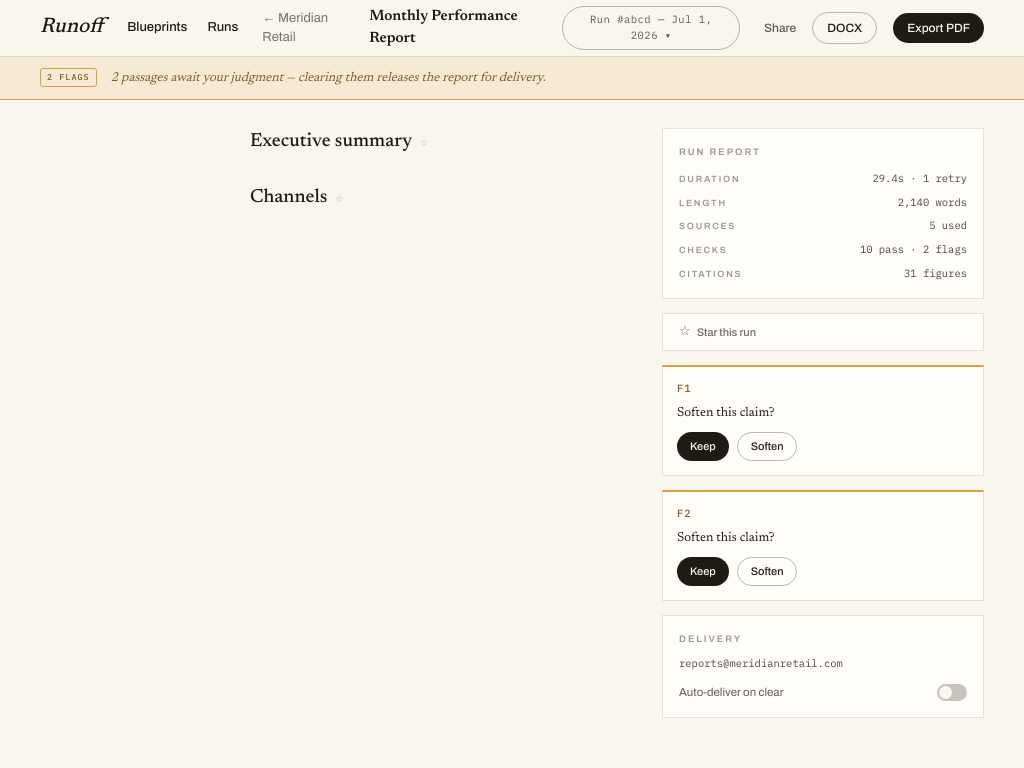
Reader — run report ledger › appends the resolved tail once every flag is cleared
The image size is (1024, 768).
Click the button "Keep" below "F1" at (703, 447), box left=677, top=432, right=729, bottom=461
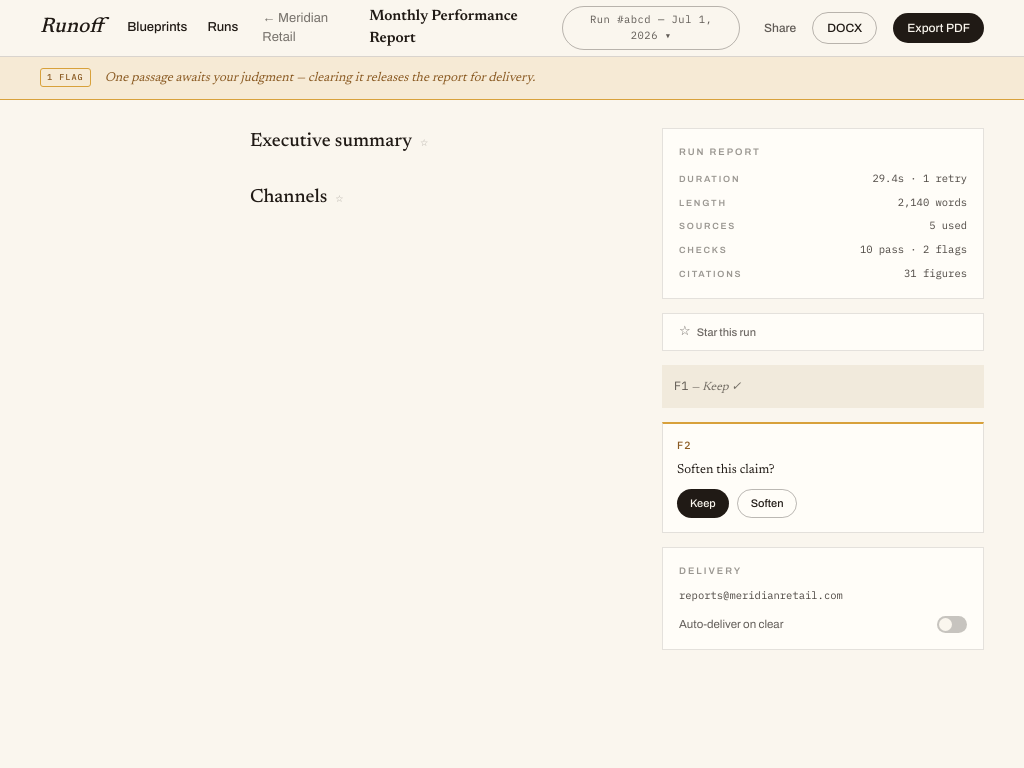
Click the button "Keep" at (703, 504), box left=677, top=489, right=729, bottom=518
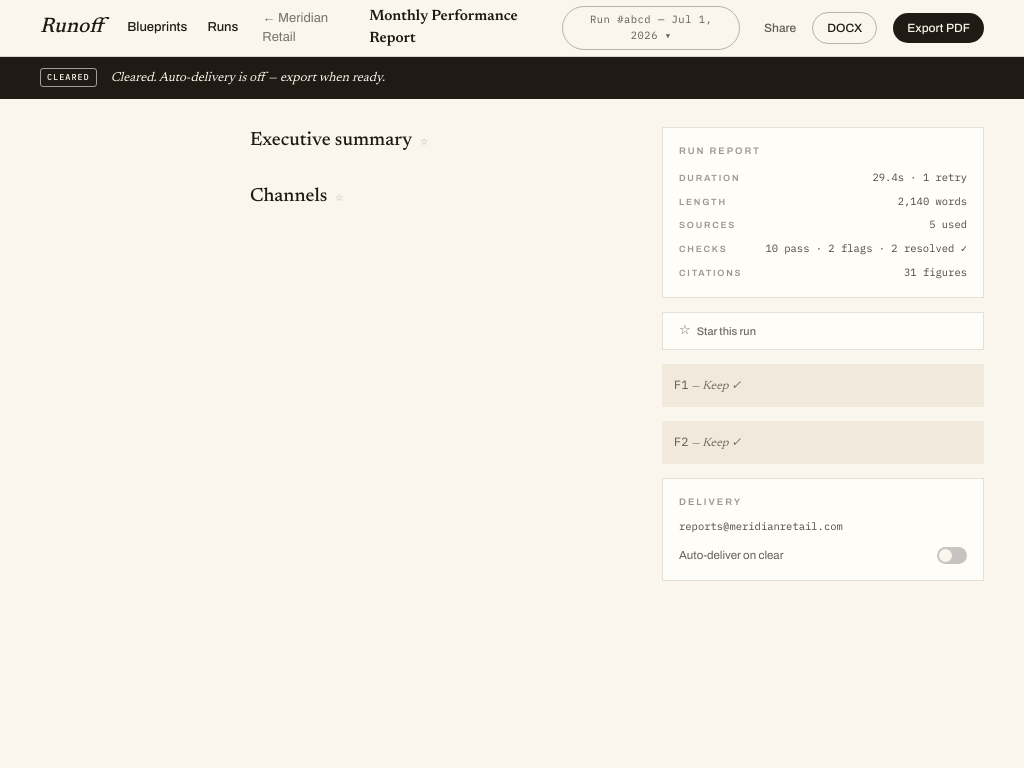
Result: the element with test id "run-report" shows "2 resolved ✓" at left=765, top=241, right=967, bottom=255
